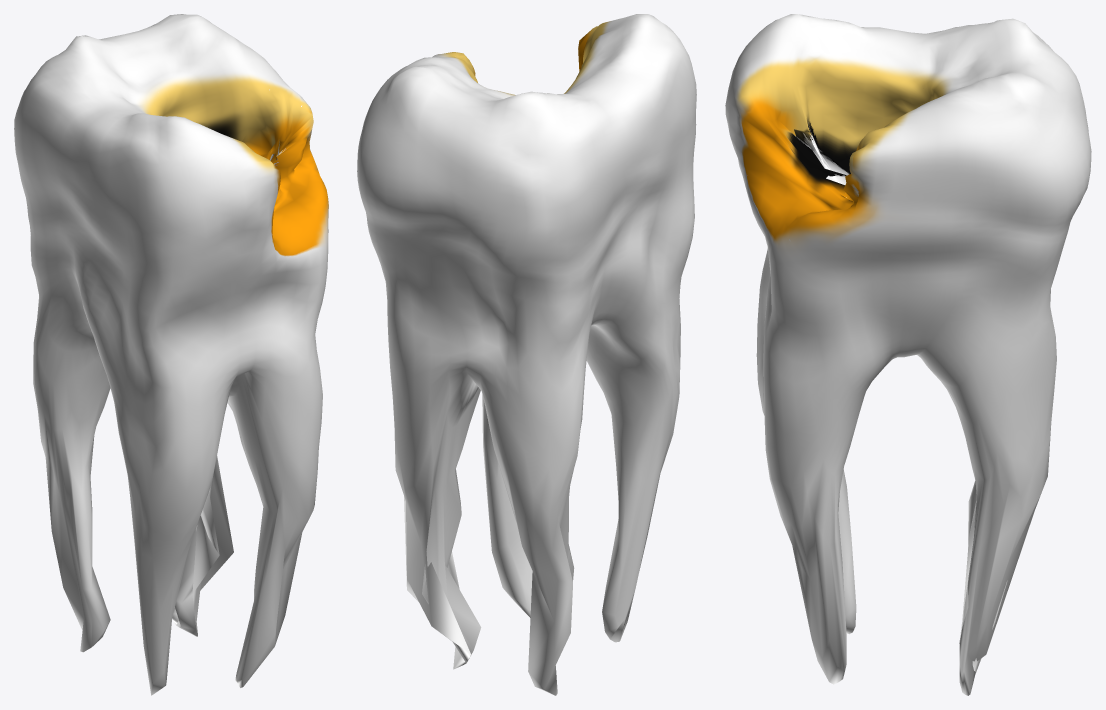
File: gigi-berlubang.gltf
3 renders of one model, left to right at view 1: azimuth 30°, elevation 25°; view 2: azimuth 150°, elevation 25°; view 3: azimuth 270°, elevation 25°, orthographic. The views are drawn at different scales.
Parts seen in each view (by area): view 1: Sphere; view 2: Sphere; view 3: Sphere.
Part boxes in pixels (bbox=[...]): Sphere: bbox=[14, 14, 328, 695]; Sphere: bbox=[357, 14, 696, 695]; Sphere: bbox=[725, 14, 1091, 695].
Bounding box in the file's own units: 1.22 × 3.12 × 1.65.
1 material, 1 textured.
